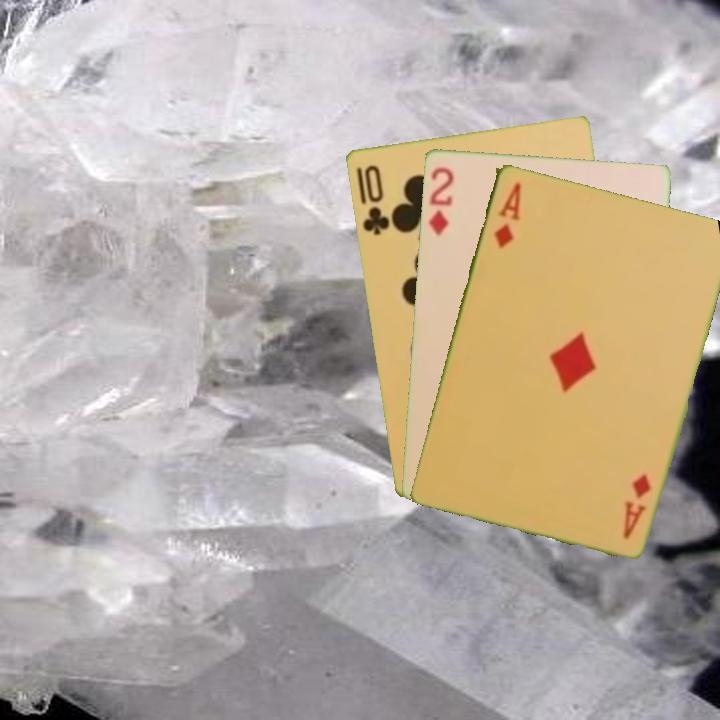10c: (358, 161, 392, 238)
2d: (424, 163, 457, 238)
Ad: (619, 469, 654, 542), (490, 177, 524, 250)
